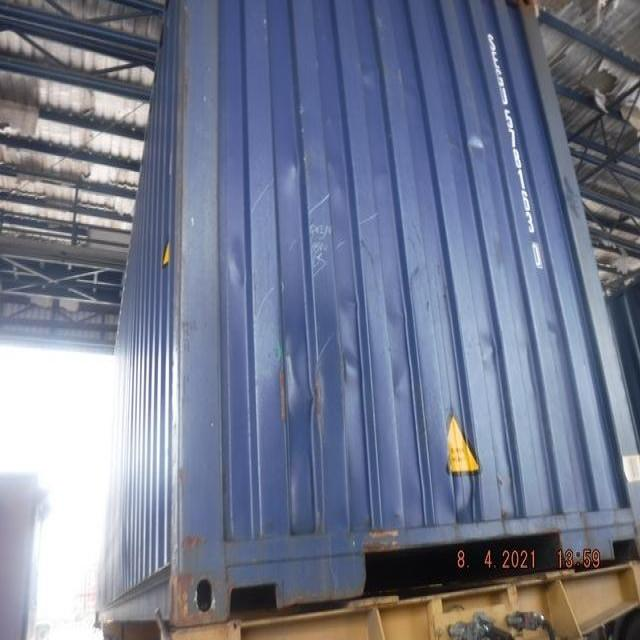dent: (384, 289, 416, 400), (284, 340, 322, 424), (341, 283, 362, 391), (223, 234, 255, 301), (480, 326, 503, 377), (464, 136, 491, 160)
